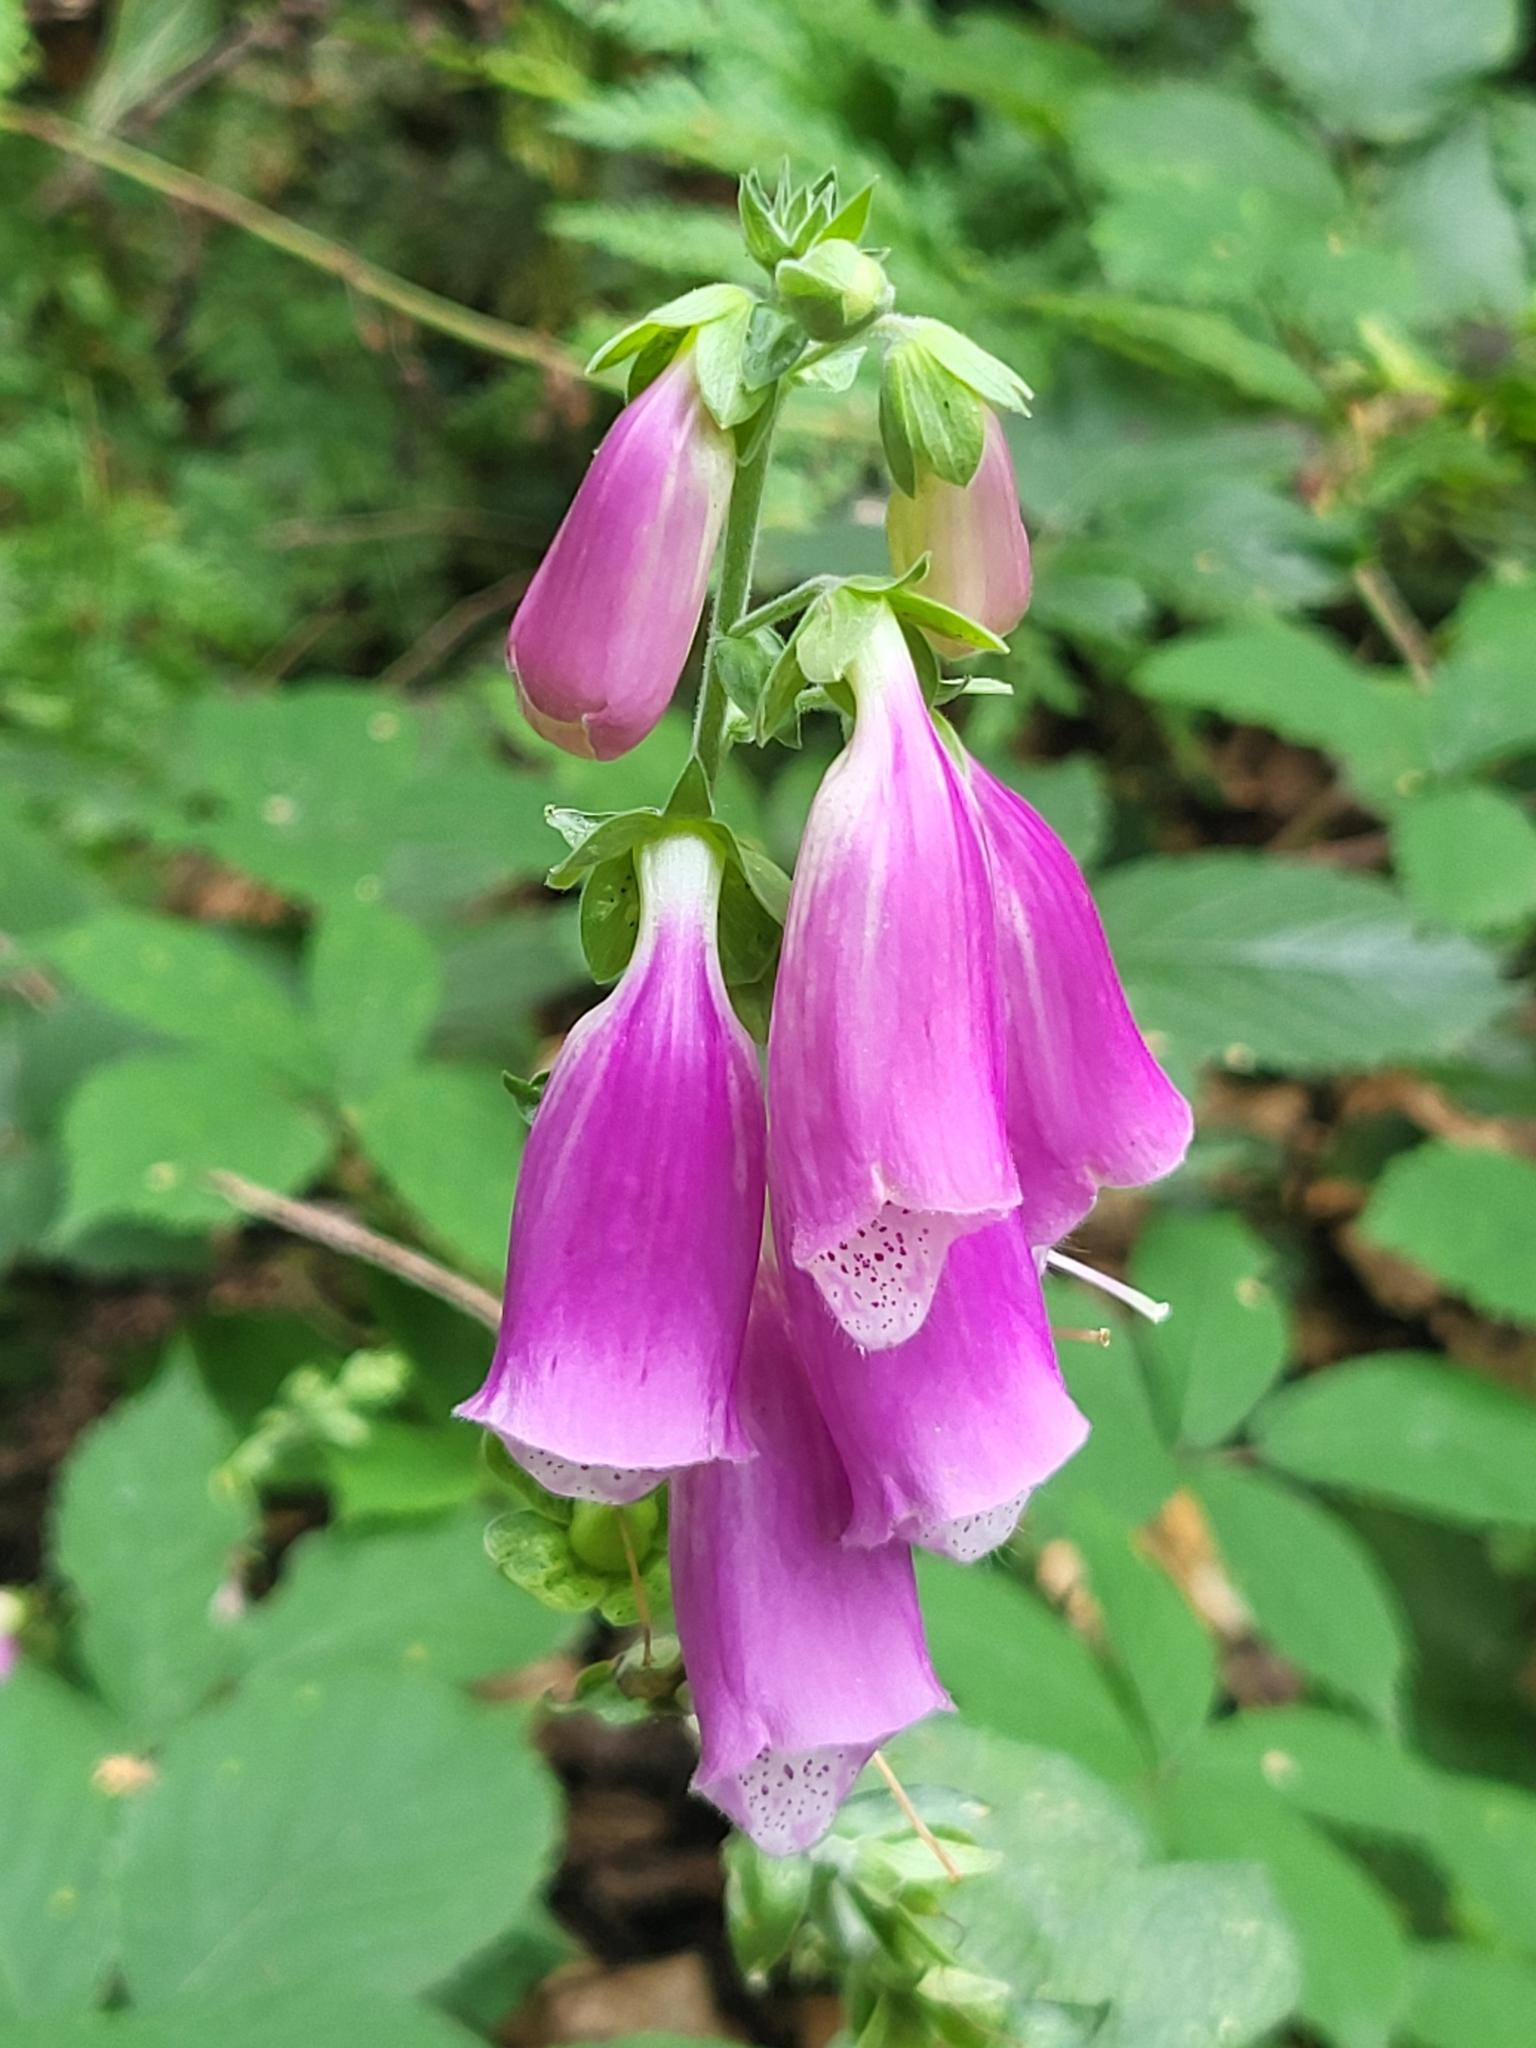Digitalis L: (481, 131, 1217, 2042)
